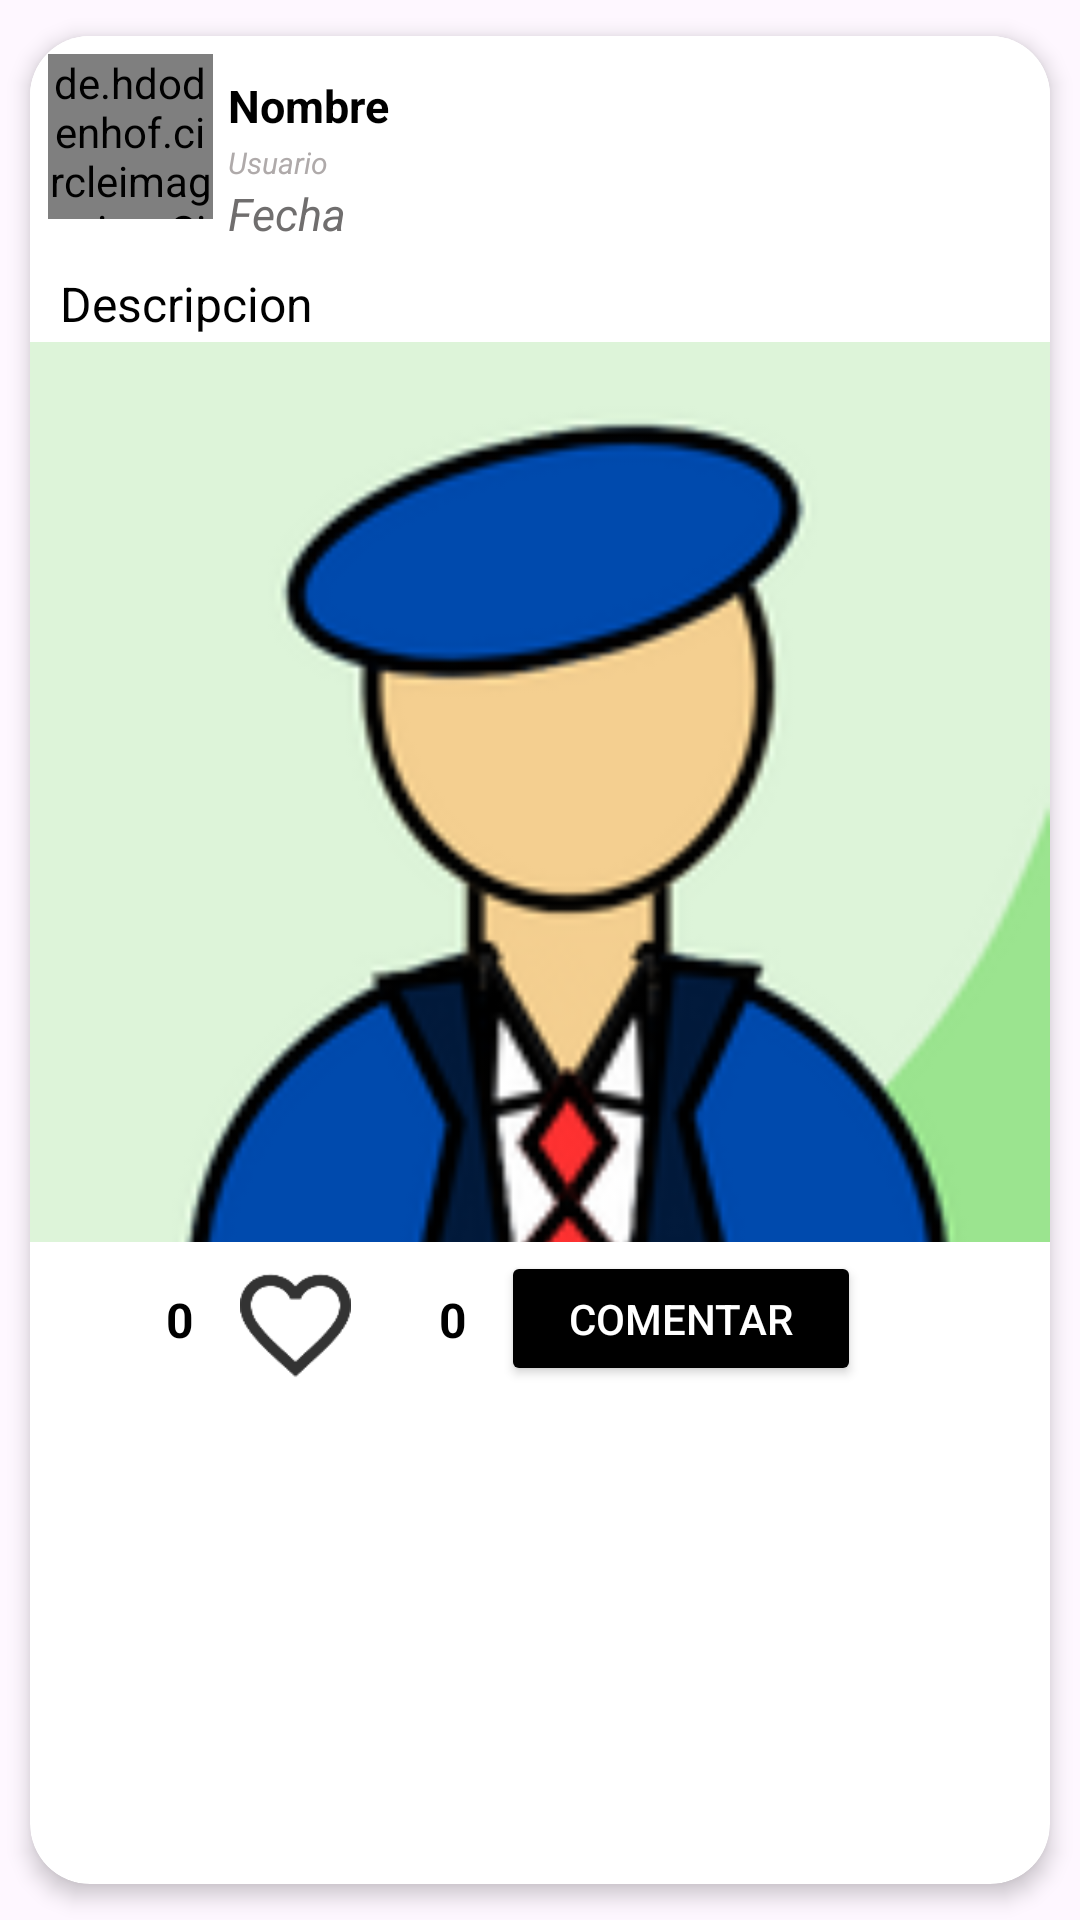

Screen size 1080 × 1920. Icon name, then its center in pixels as [x,y]:
ig borderlik: [295,1325]
